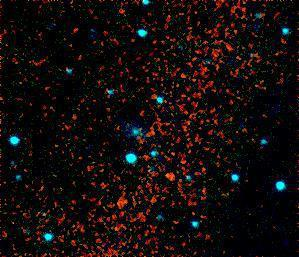star: (65, 16, 95, 46)
